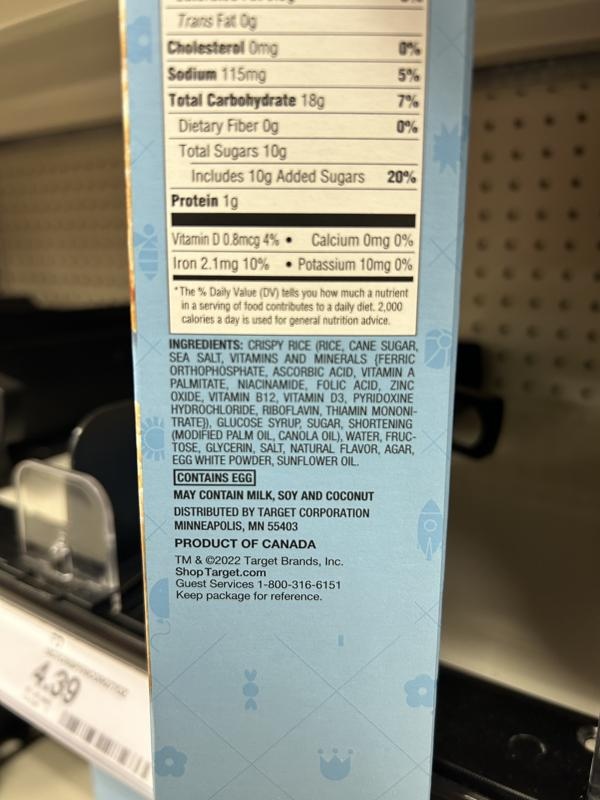ingredients: (167, 337, 417, 467)
